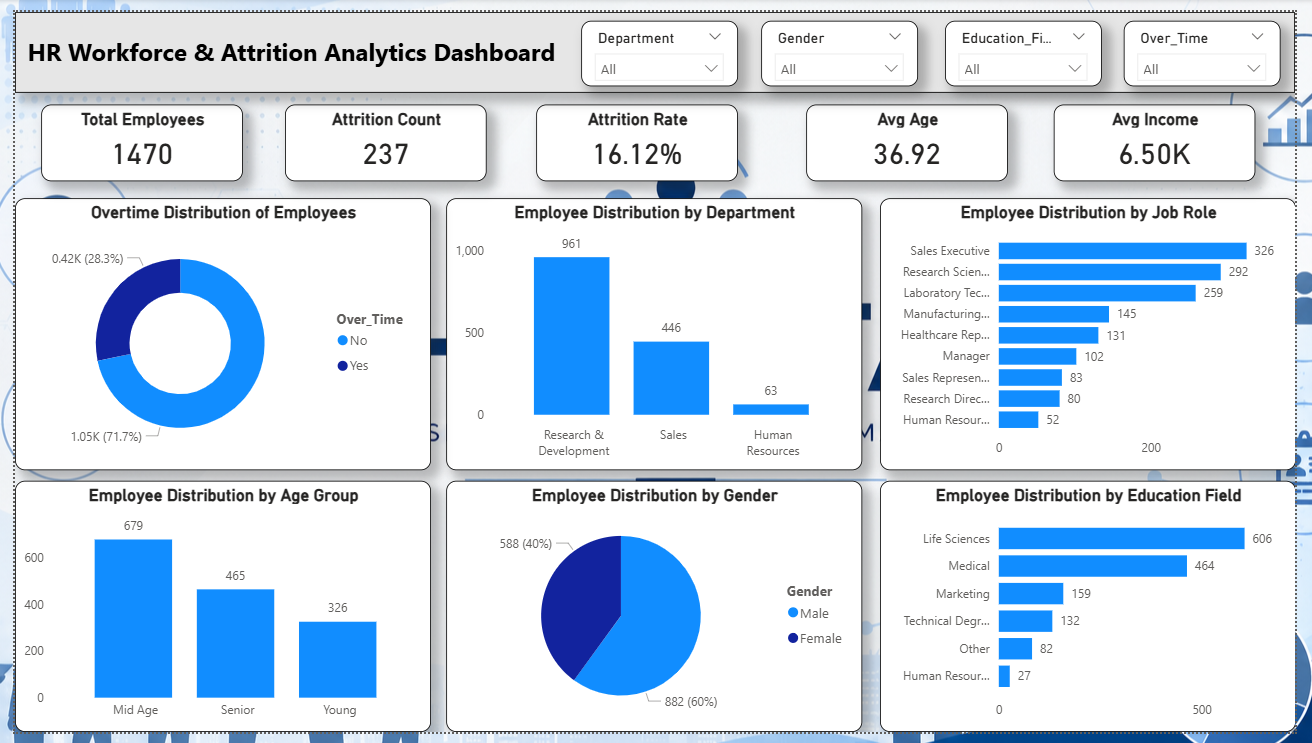

Layout of this report page (visuals, bound fields, positions):
{"tool":"powerbi","page":{"name":"Page 1","canvas":[1280,720],"ordinal":0},"visuals":[{"type":"clusteredColumnChart","title":"Employee Distribution by Department","fields":{"Y":["CountNonNull(HR_Data(Cleaned_Data).Attrition)"],"Category":["HR_Data(Cleaned_Data).Department"]},"box":[430.9,186.6,415.8,271.7],"z":0},{"type":"clusteredBarChart","title":"Employee Distribution by Job Role","fields":{"Y":["CountNonNull(HR_Data(Cleaned_Data).Attrition)"],"Category":["HR_Data(Cleaned_Data).Job_Role"]},"box":[864.5,186.6,415.8,271.7],"z":1000},{"type":"donutChart","title":"Overtime Distribution of Employees","fields":{"Y":["CountNonNull(HR_Data(Cleaned_Data).Attrition)"],"Category":["HR_Data(Cleaned_Data).Over_Time"]},"box":[0,186.6,415.8,271.7],"z":2000},{"type":"columnChart","title":"Employee Distribution by Age Group","fields":{"Y":["CountNonNull(HR_Data(Cleaned_Data).Attrition)"],"Category":["HR_Data(Cleaned_Data).Age_Group"]},"box":[0,469.3,415.8,251.1],"z":3000},{"type":"pieChart","title":"Employee Distribution by Gender","fields":{"Y":["CountNonNull(HR_Data(Cleaned_Data).Attrition)"],"Category":["HR_Data(Cleaned_Data).Gender"]},"box":[430.9,469.3,415.8,251.1],"z":4000},{"type":"barChart","title":"Employee Distribution by Education Field","fields":{"Y":["CountNonNull(HR_Data(Cleaned_Data).Attrition)"],"Category":["HR_Data(Cleaned_Data).Education_Field"]},"box":[864.5,469.3,415.8,251.1],"z":5000},{"type":"card","title":"Total Employees","fields":{"Values":["HR_Data(Cleaned_Data).Total Employees"]},"box":[26.1,91.9,201.7,76.8],"z":6000},{"type":"card","title":"Attrition Count","fields":{"Values":["HR_Data(Cleaned_Data).Attrition Count"]},"box":[270.3,91.9,201.7,76.8],"z":7000},{"type":"card","title":"Attrition Rate","fields":{"Values":["HR_Data(Cleaned_Data).Attrition Rate"]},"box":[521.4,91.9,201.7,76.8],"z":8000},{"type":"card","title":"Avg Age","fields":{"Values":["HR_Data(Cleaned_Data).Avg Age"]},"box":[791.8,91.9,201.7,76.8],"z":9000},{"type":"card","title":"Avg Income","fields":{"Values":["HR_Data(Cleaned_Data).Avg Income"]},"box":[1038.8,91.9,201.7,76.8],"z":10000},{"type":"textbox","box":[0,0,1280.3,81],"z":11000},{"type":"slicer","fields":{"Values":["HR_Data(Cleaned_Data).Department"]},"box":[566.7,8.2,156.4,65.9],"z":12000},{"type":"slicer","fields":{"Values":["HR_Data(Cleaned_Data).Gender"]},"box":[746.5,8.2,156.4,65.9],"z":13000},{"type":"slicer","fields":{"Values":["HR_Data(Cleaned_Data).Education_Field"]},"box":[930.4,8.2,156.4,65.9],"z":14000},{"type":"slicer","fields":{"Values":["HR_Data(Cleaned_Data).Over_Time"]},"box":[1108.8,8.2,156.4,65.9],"z":15000}]}

Visuals, with their boxes in screenshot pixels (x1, y1, x2, y2), scaled from the page's 1280x720 canvas onto the 1312x743 screenshot:
"Employee Distribution by Department" clusteredColumnChart: 442 193 868 473
"Employee Distribution by Job Role" clusteredBarChart: 886 193 1311 473
"Overtime Distribution of Employees" donutChart: 0 193 426 473
"Employee Distribution by Age Group" columnChart: 0 484 426 742
"Employee Distribution by Gender" pieChart: 442 484 868 742
"Employee Distribution by Education Field" barChart: 886 484 1311 742
"Total Employees" card: 27 95 233 174
"Attrition Count" card: 277 95 484 174
"Attrition Rate" card: 534 95 741 174
"Avg Age" card: 812 95 1018 174
"Avg Income" card: 1065 95 1272 174
textbox: 0 0 1311 84
slicer - HR_Data(Cleaned_Data).Department: 581 8 741 76
slicer - HR_Data(Cleaned_Data).Gender: 765 8 925 76
slicer - HR_Data(Cleaned_Data).Education_Field: 954 8 1114 76
slicer - HR_Data(Cleaned_Data).Over_Time: 1137 8 1297 76
